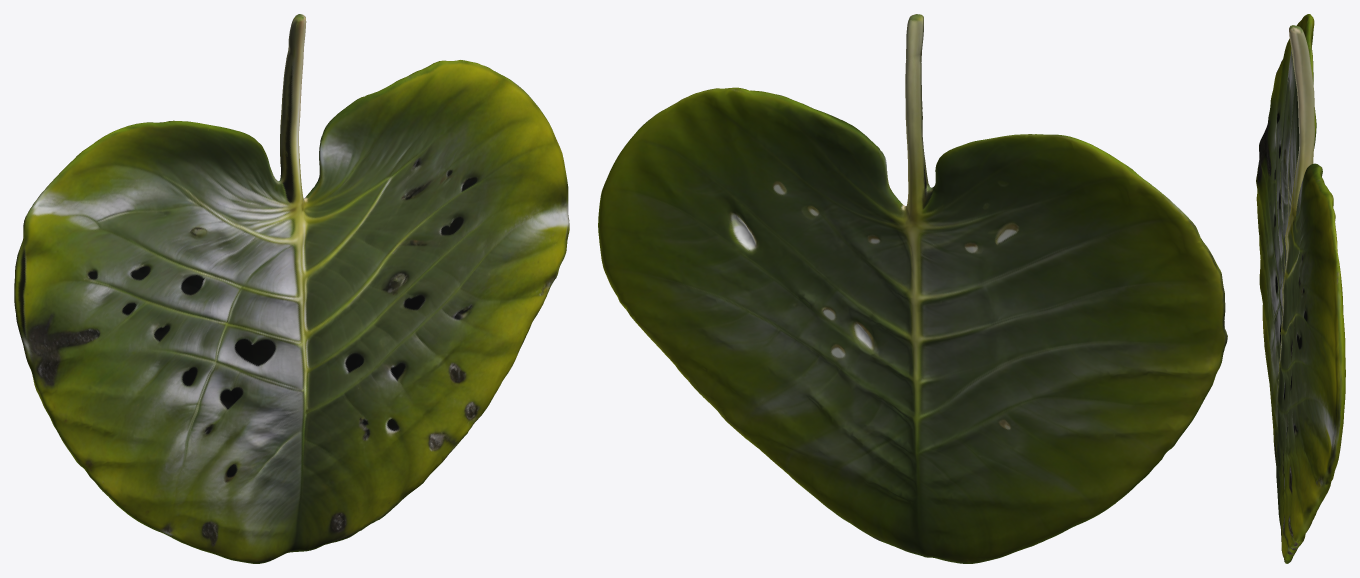
Rendered from AI_MonsteraLeaf.fbx.
3 renders of one model, left to right at view 1: azimuth 30°, elevation 25°; view 2: azimuth 150°, elevation 25°; view 3: azimuth 270°, elevation 25°, orthographic. The views are drawn at different scales.
Visible parts, largest first — view 1: Mesh1; view 2: Mesh1; view 3: Mesh1.
Boxes of the visible parts, bbox=[...] form: Mesh1: bbox=[14, 14, 569, 563]; Mesh1: bbox=[598, 14, 1227, 563]; Mesh1: bbox=[1256, 14, 1345, 563].
Size of the model in its own units: 200 by 175 by 27.48.
Materials: 1 (1 with a texture image).
